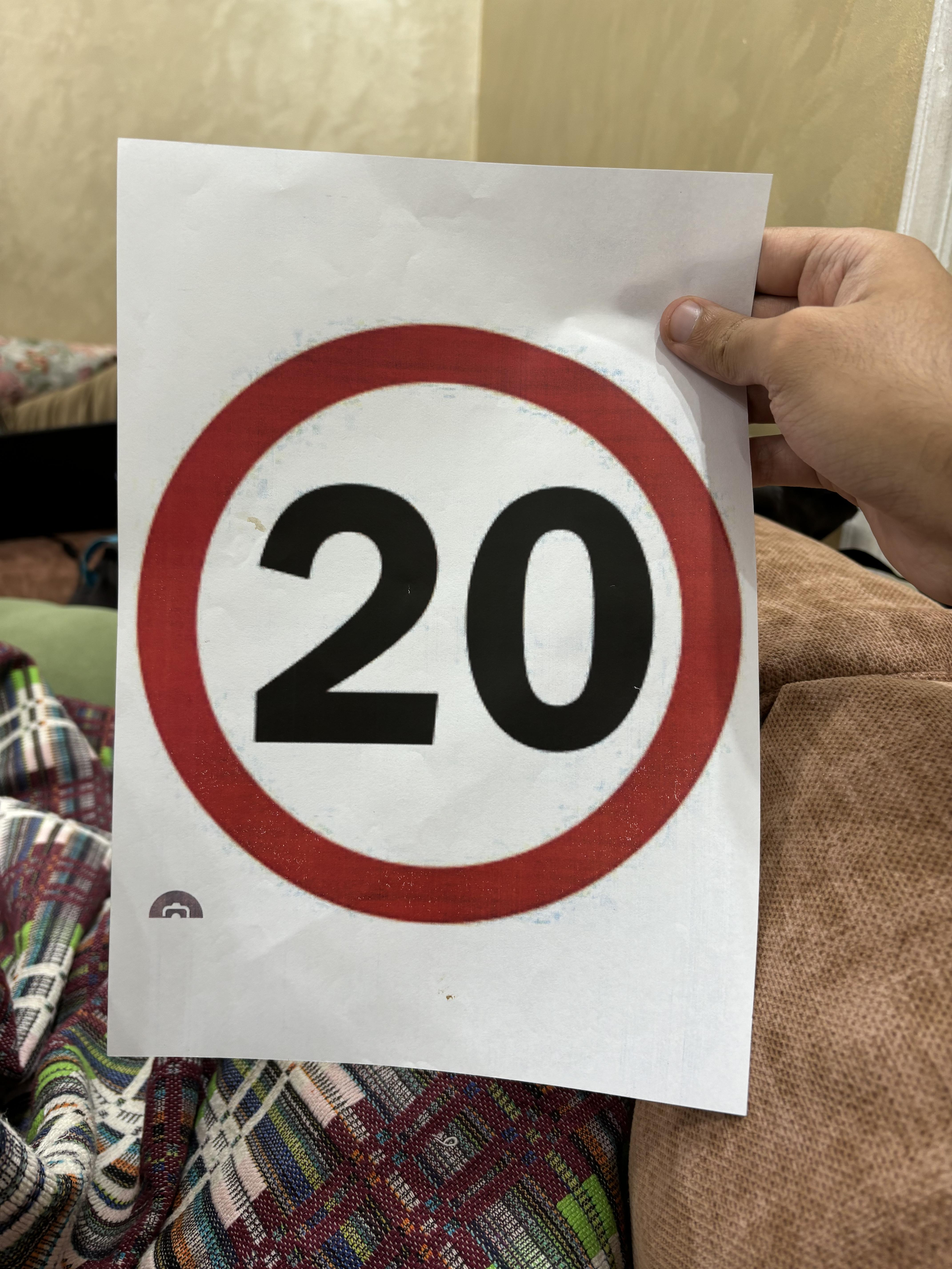20-Speed: (118, 309, 740, 927)
